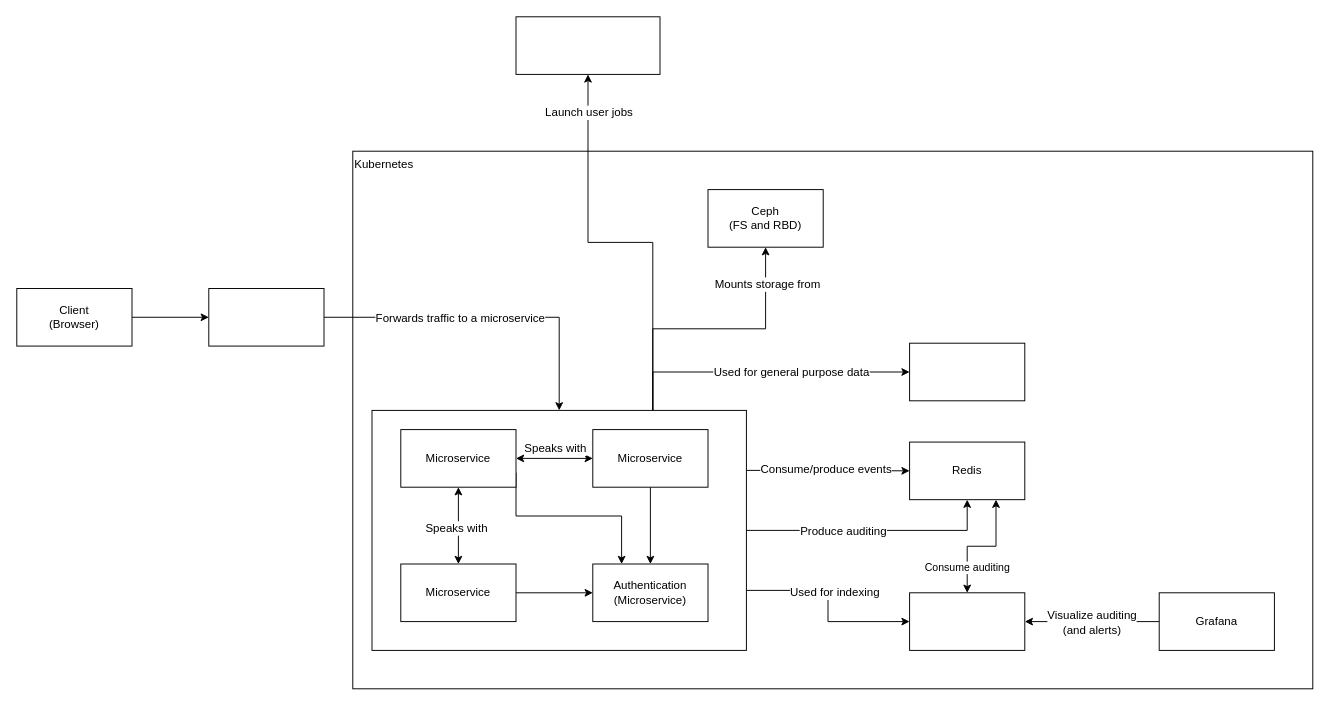
The diagram is 1330 pixels wide and 706 high, and some of its shapes have lost their labels. Each missing label, with the centre of its shape:
Compute resources (e.g. Kubernetes/slurm): point 587,45
Elasticsearch: point 967,621
Gateway: point 266,317
PostgreSQL (Stolon): point 967,371
